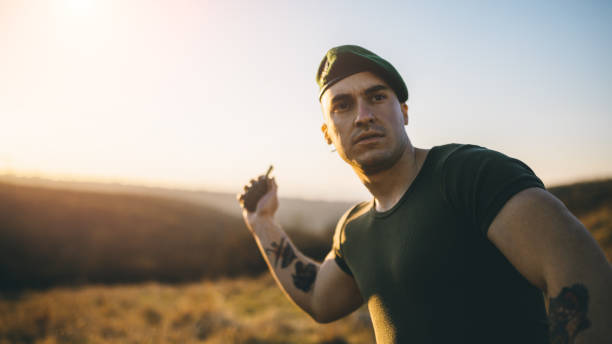e1: (238, 166, 273, 209)
